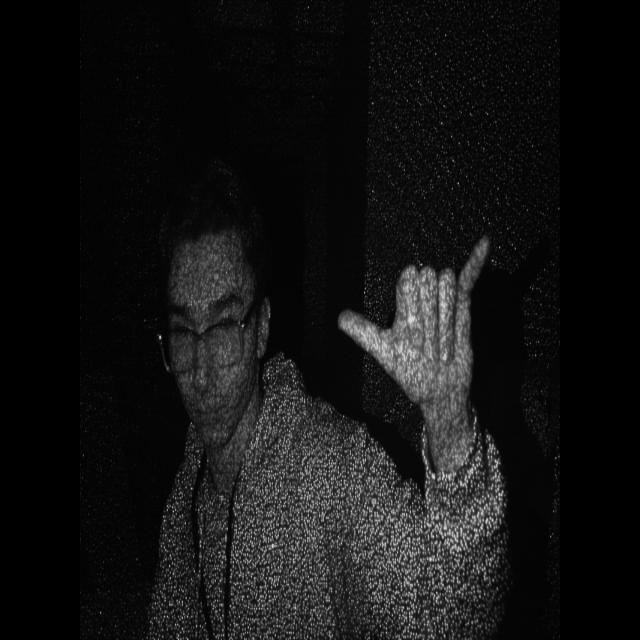Y: (333, 212, 502, 426)
